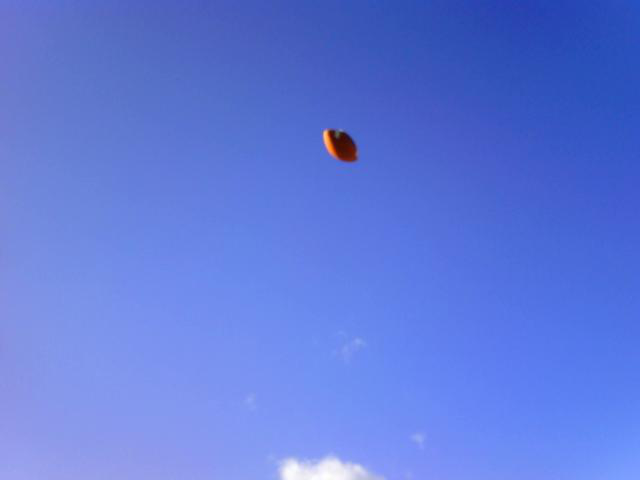football: (317, 123, 360, 167)
